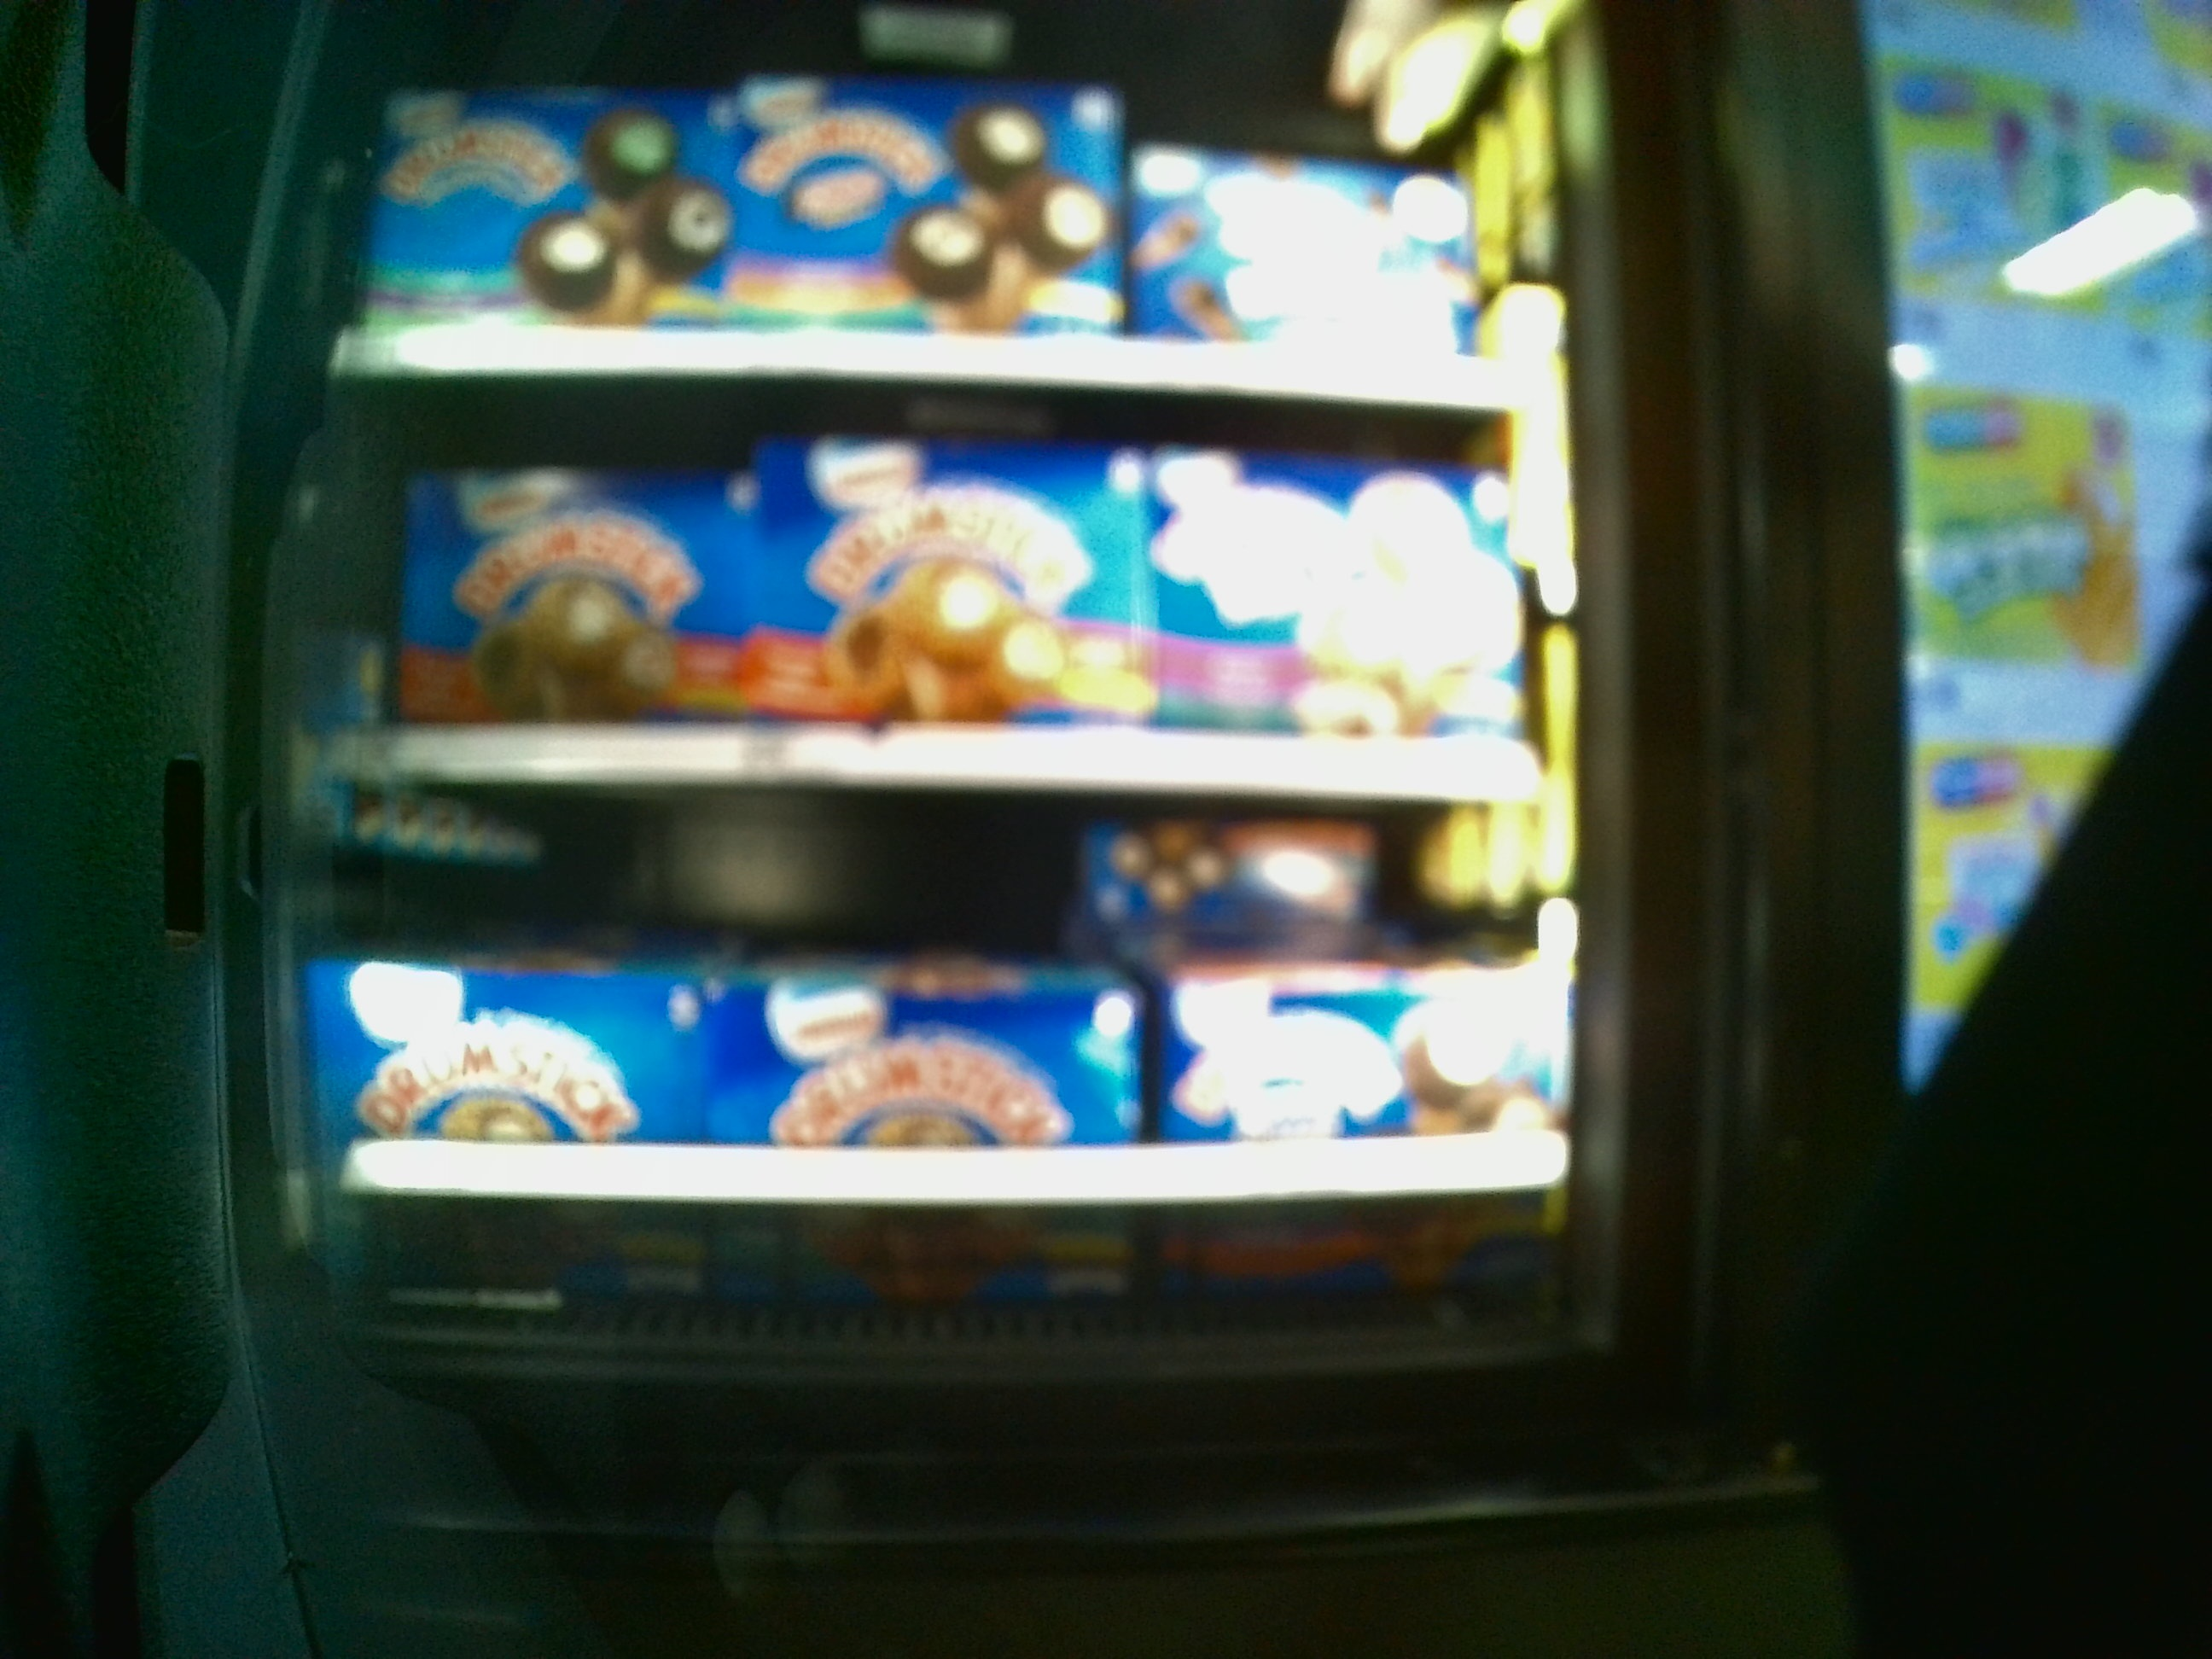shelf: (348, 791, 1562, 1290), (343, 383, 1552, 802)
